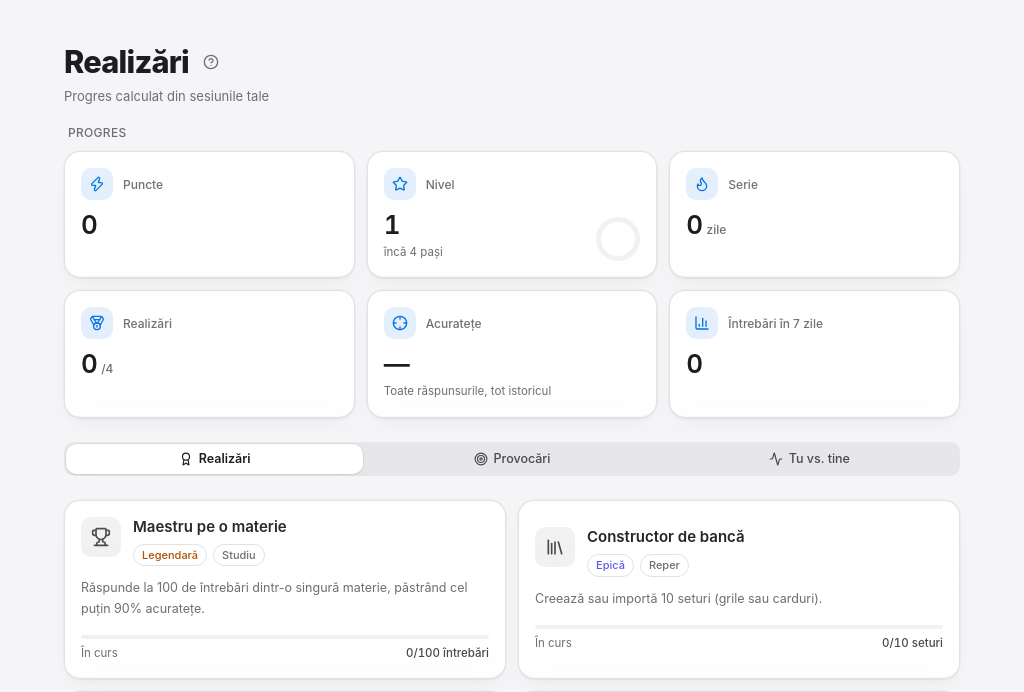
Test: AIGamification with an empty profile › opens an achievement as a dialog and removes it after Escape
The width and height of the screenshot is (1024, 692).
Click the button "Constructor de bancă": {"x": 739, "y": 590} [518,500,960,679]
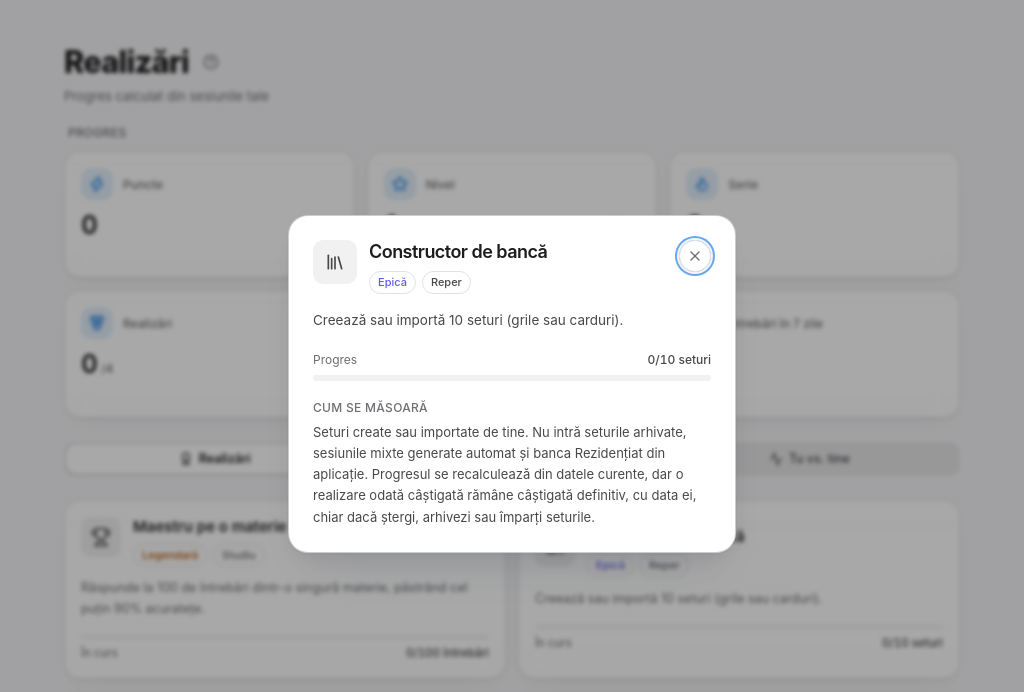
Now the heading "Cum se măsoară" is shown, box [313,400,428,416]
Press Escape in the dialog, box [288,215,736,553]
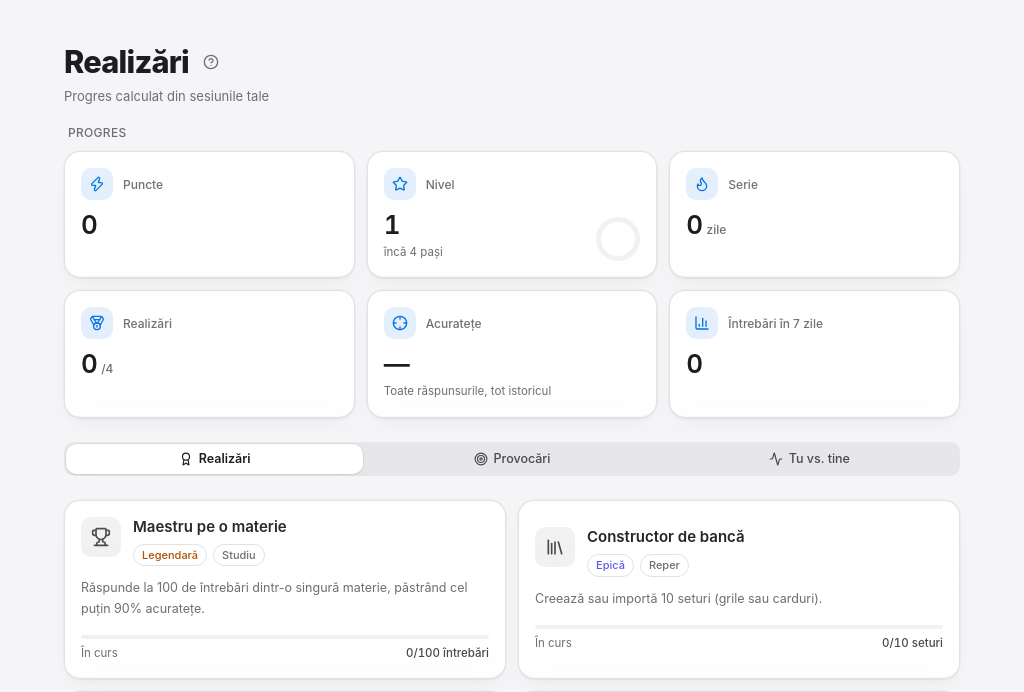
Now the dialog is gone
